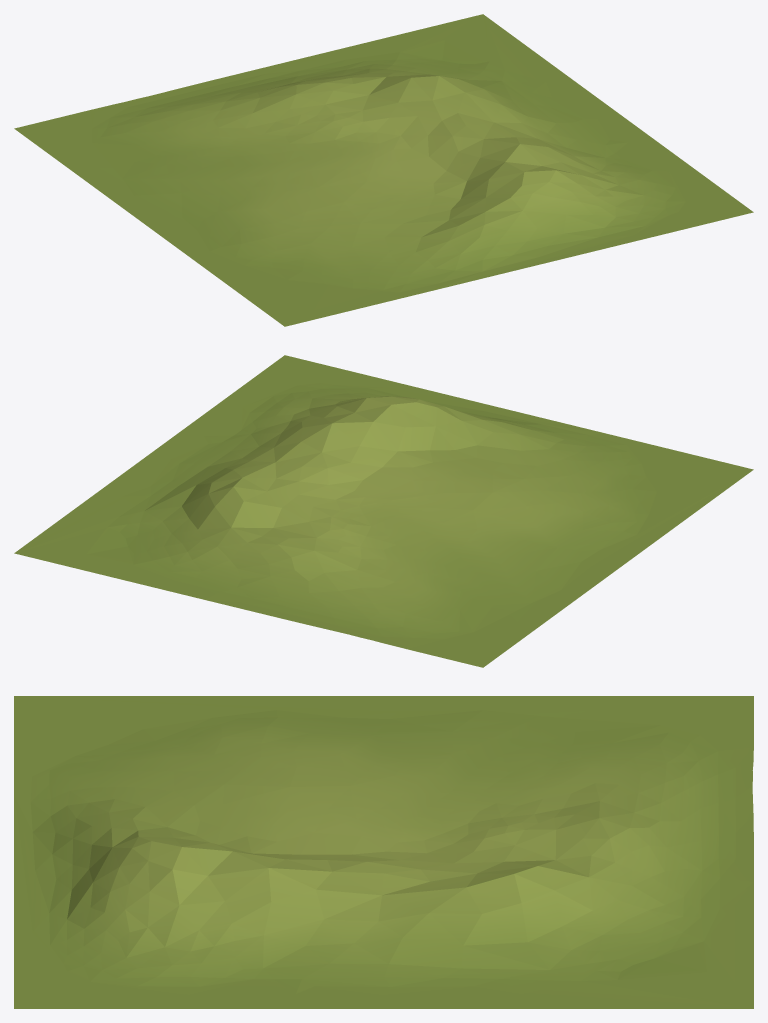
The model's file is Terrain_07.fbx.
3 views of the same model, one above another, from view 1: azimuth 30°, elevation 25°; view 2: azimuth 150°, elevation 25°; view 3: azimuth 270°, elevation 25° (orthographic). The views are drawn at different scales.
Visible parts, largest first — view 1: Terrain_07; view 2: Terrain_07; view 3: Terrain_07.
Boxes of the visible parts, <box> form: Terrain_07: <box>14,14,753,326</box>; Terrain_07: <box>14,355,753,667</box>; Terrain_07: <box>14,696,753,1008</box>.
Size of the model in its own units: 128 by 9.76 by 128.
